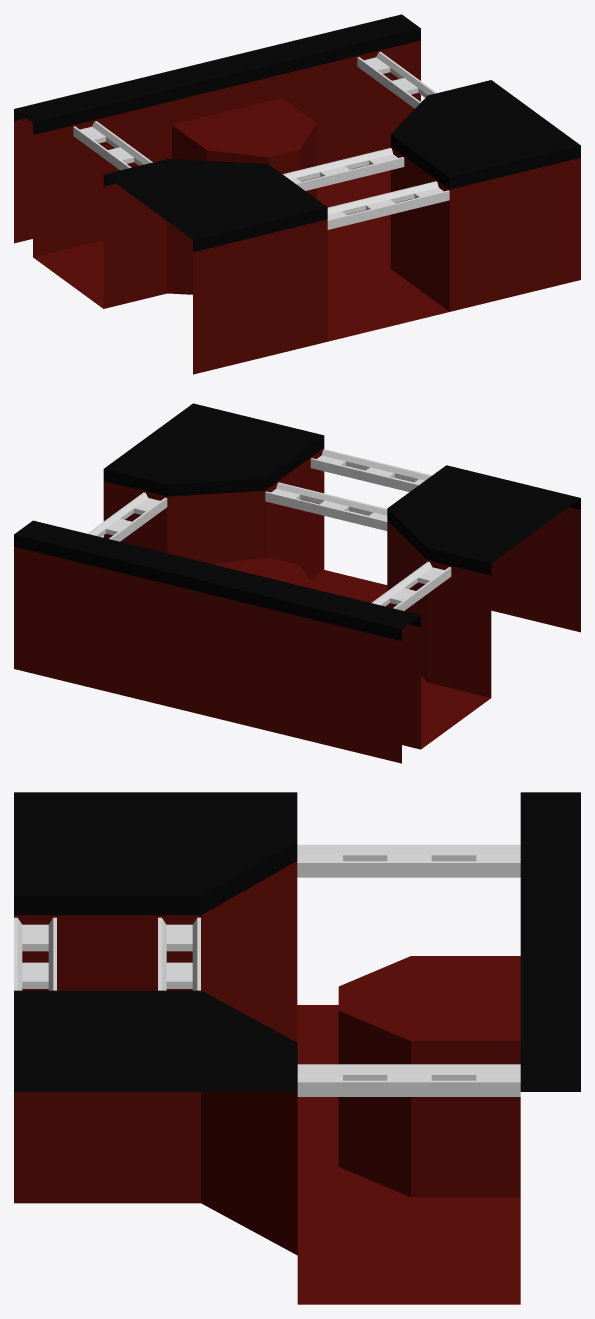
File: LinearRoom.FBX
3 renders of one model, top to bottom at view 1: azimuth 30°, elevation 25°; view 2: azimuth 150°, elevation 25°; view 3: azimuth 270°, elevation 25°, orthographic. The views are drawn at different scales.
Parts seen in each view (by area): view 1: Box039, RoofLinear, Box042, Box043, Box041, Box040; view 2: Box039, RoofLinear, Box043, Box042, Box041, Box040; view 3: Box039, RoofLinear, Box040, Box041, Box042, Box043.
Part boxes in pixels (bbox=[...]): Box039: bbox=[14, 40, 580, 374]; RoofLinear: bbox=[14, 14, 580, 252]; Box042: bbox=[327, 181, 449, 229]; Box043: bbox=[283, 148, 404, 190]; Box041: bbox=[357, 51, 436, 108]; Box040: bbox=[73, 121, 152, 170]; Box039: bbox=[14, 448, 580, 763]; RoofLinear: bbox=[14, 403, 580, 641]; Box043: bbox=[265, 482, 387, 530]; Box042: bbox=[310, 449, 431, 491]; Box041: bbox=[87, 492, 167, 541]; Box040: bbox=[372, 561, 451, 610]; Box039: bbox=[14, 861, 520, 1304]; RoofLinear: bbox=[14, 792, 580, 1091]; Box040: bbox=[297, 844, 520, 877]; Box041: bbox=[297, 1064, 520, 1096]; Box042: bbox=[14, 917, 56, 990]; Box043: bbox=[158, 917, 200, 990].
Size of the model in its own units: 200 by 66.26 by 160.
